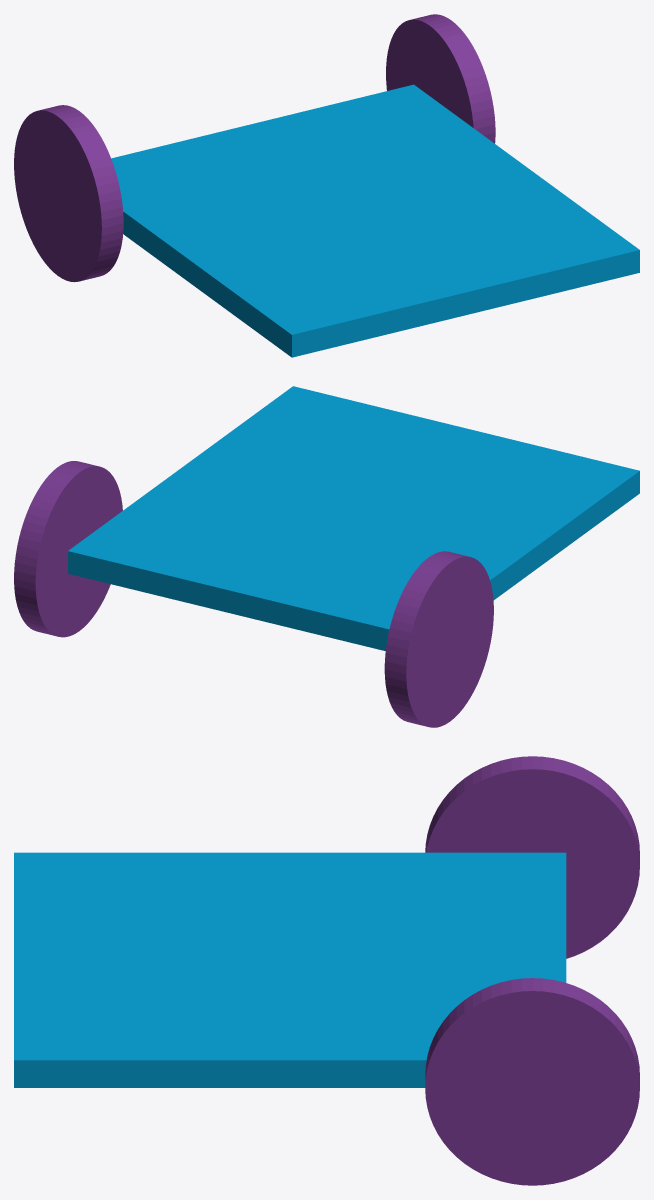
The model's file is robot.obj.
The picture shows the model from 3 angles, top to bottom: view 1: azimuth 30°, elevation 25°; view 2: azimuth 150°, elevation 25°; view 3: azimuth 270°, elevation 25°; orthographic projection. The views are drawn at different scales.
Visible parts, largest first — view 1: group_0_40919, group_0_8273816; view 2: group_0_40919, group_0_8273816; view 3: group_0_40919, group_0_8273816.
Part boxes in pixels (<box>): group_0_40919: <box>111,84,639,357</box>; group_0_8273816: <box>14,14,495,282</box>; group_0_40919: <box>68,386,639,650</box>; group_0_8273816: <box>14,461,493,727</box>; group_0_40919: <box>14,852,566,1087</box>; group_0_8273816: <box>425,756,639,1185</box>.
Size of the model in its own units: 90.5 by 35 by 102.
